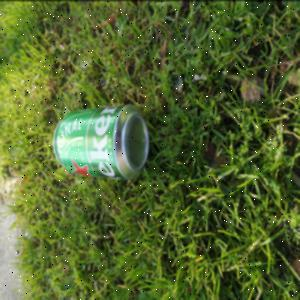Can: (53, 103, 151, 183)
